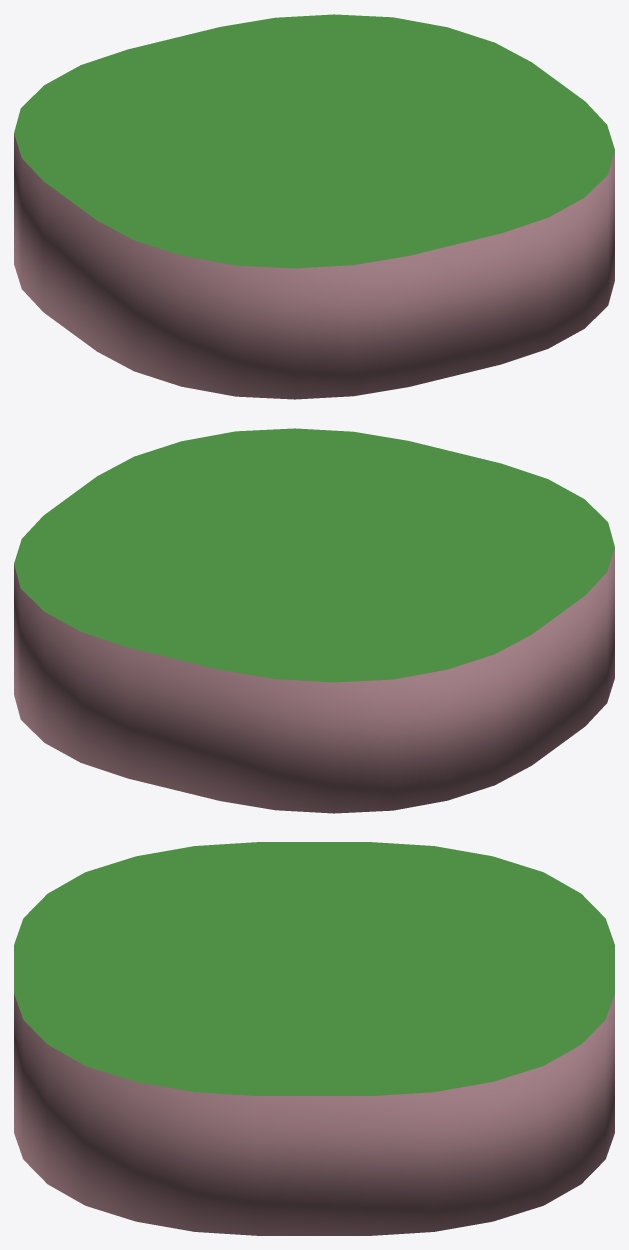
File: soiltile 1.fbx
3 renders of one model, top to bottom at view 1: azimuth 30°, elevation 25°; view 2: azimuth 150°, elevation 25°; view 3: azimuth 270°, elevation 25°, orthographic. The views are drawn at different scales.
Parts seen in each view (by area): view 1: SoilTile; view 2: SoilTile; view 3: SoilTile.
Boxes of the visible parts, x1,y1,x2,y2 form: SoilTile: [14, 14, 614, 399]; SoilTile: [14, 428, 614, 813]; SoilTile: [14, 842, 614, 1235].
Bounding box in the file's own units: 200 × 51.31 × 200.
